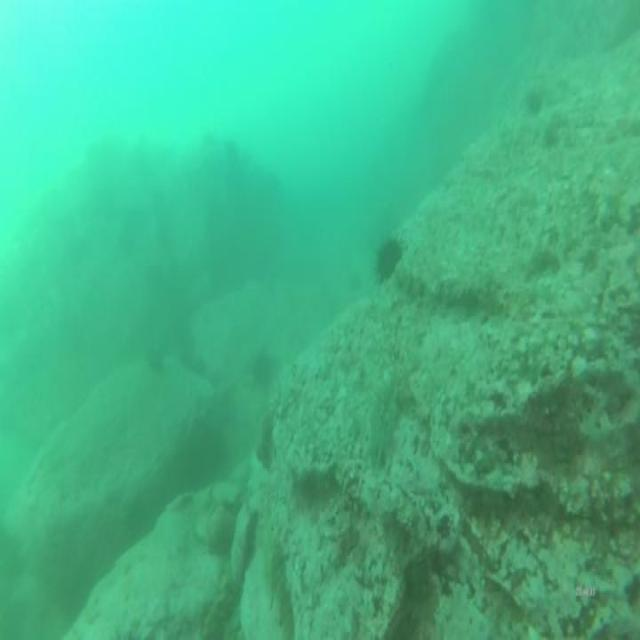echinus: (372, 236, 406, 284), (250, 346, 276, 389), (522, 87, 546, 118)
holothurian: (262, 529, 297, 640), (199, 572, 241, 640)
